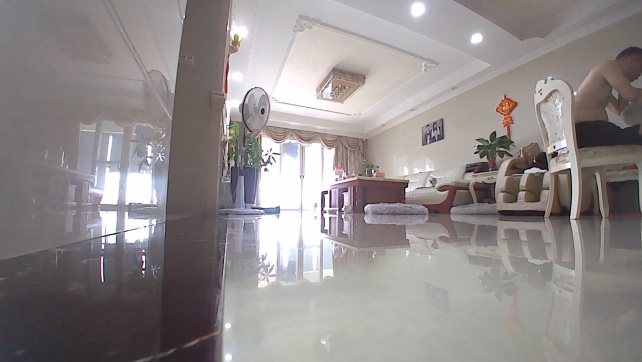blanket: (360, 200, 428, 217), (448, 200, 501, 216)
chair_base: (217, 203, 265, 218)
sofa: (493, 142, 566, 217), (393, 161, 490, 215)
tea_table: (326, 174, 409, 213)
